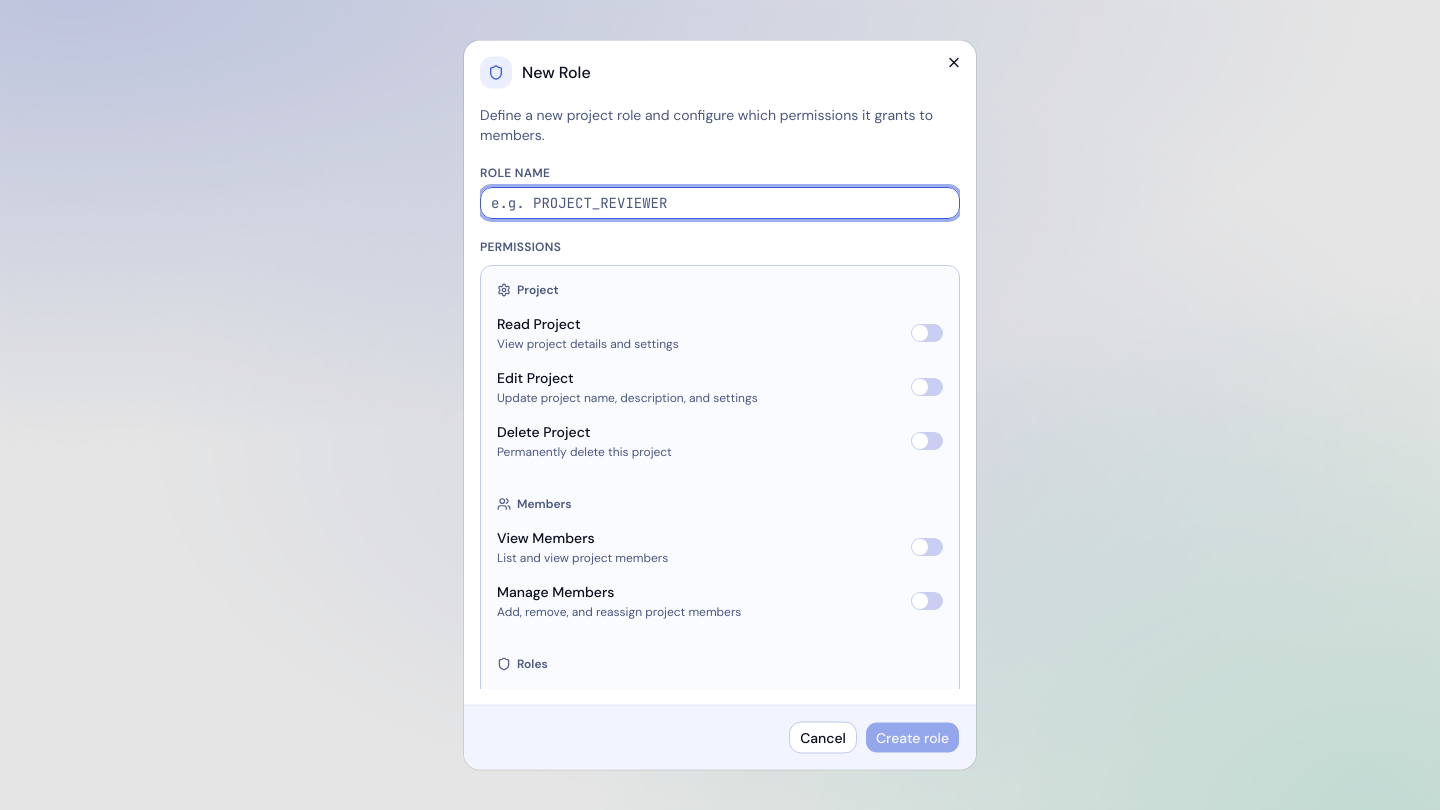
ProjectRoleFormDialog › error handling › shows a general error for forbidden action
The image size is (1440, 810).
Type "NEW_ROLE" into the field labelled "Role Name" at (720, 202), box [480,186,960,218]
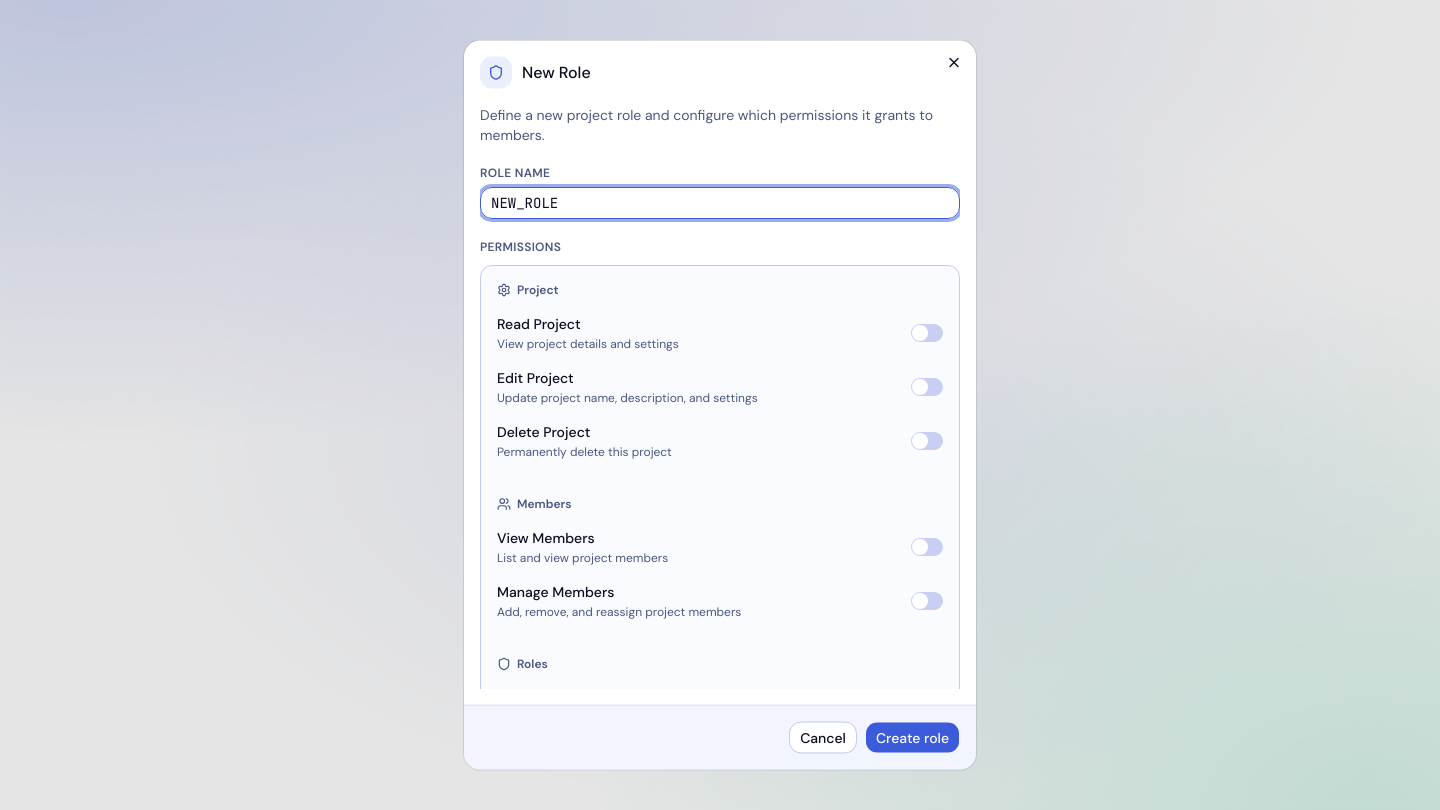
Click the button "Create role" at (912, 738), box [865,722,960,754]
(page scrolled)
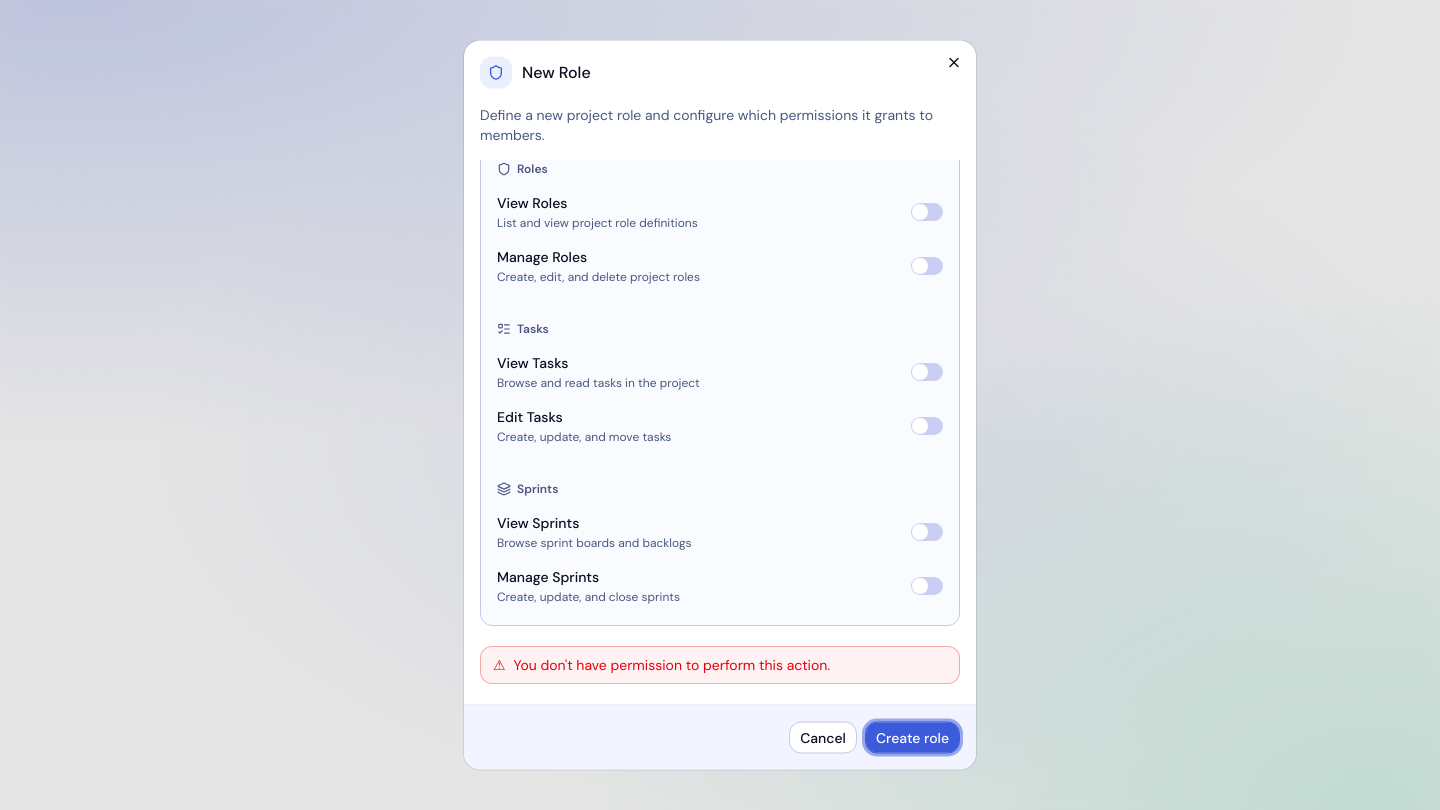
Expected: the text "You don't have permission to perform this action." is shown, [514,656,830,676]
